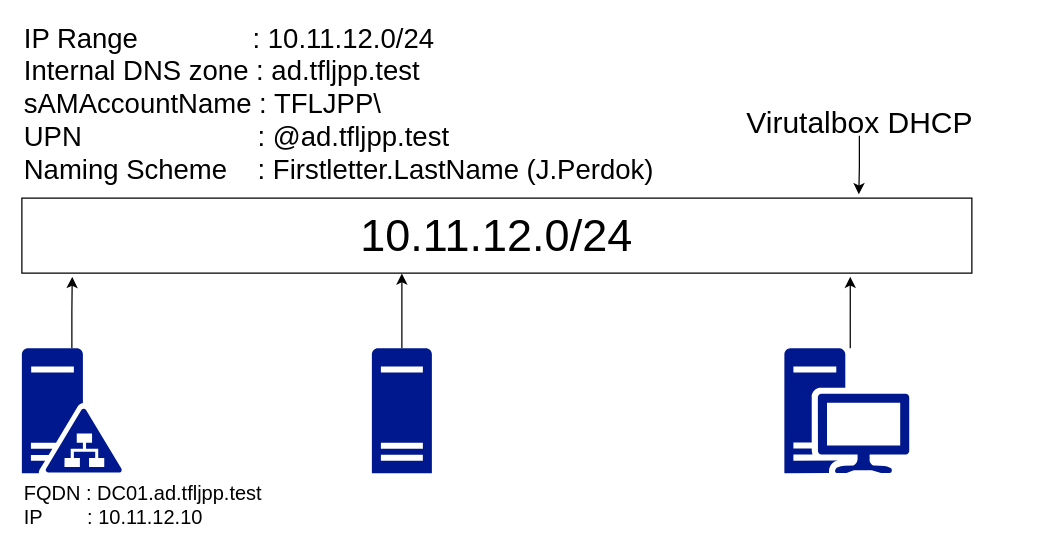
Some shapes in this 1045 by 550 pixel diagram are drawn without their labels. Here are the shapes that lost their labels. From the top down, the centre of each, then its label:
At pixel 401 410: "FQDN : FS01.ad.tfljpp.test IP : 10.11.12.50".
At pixel 846 410: "FQDN : PC01.ad.tfljpp.test IP : 10.11.12.100".
